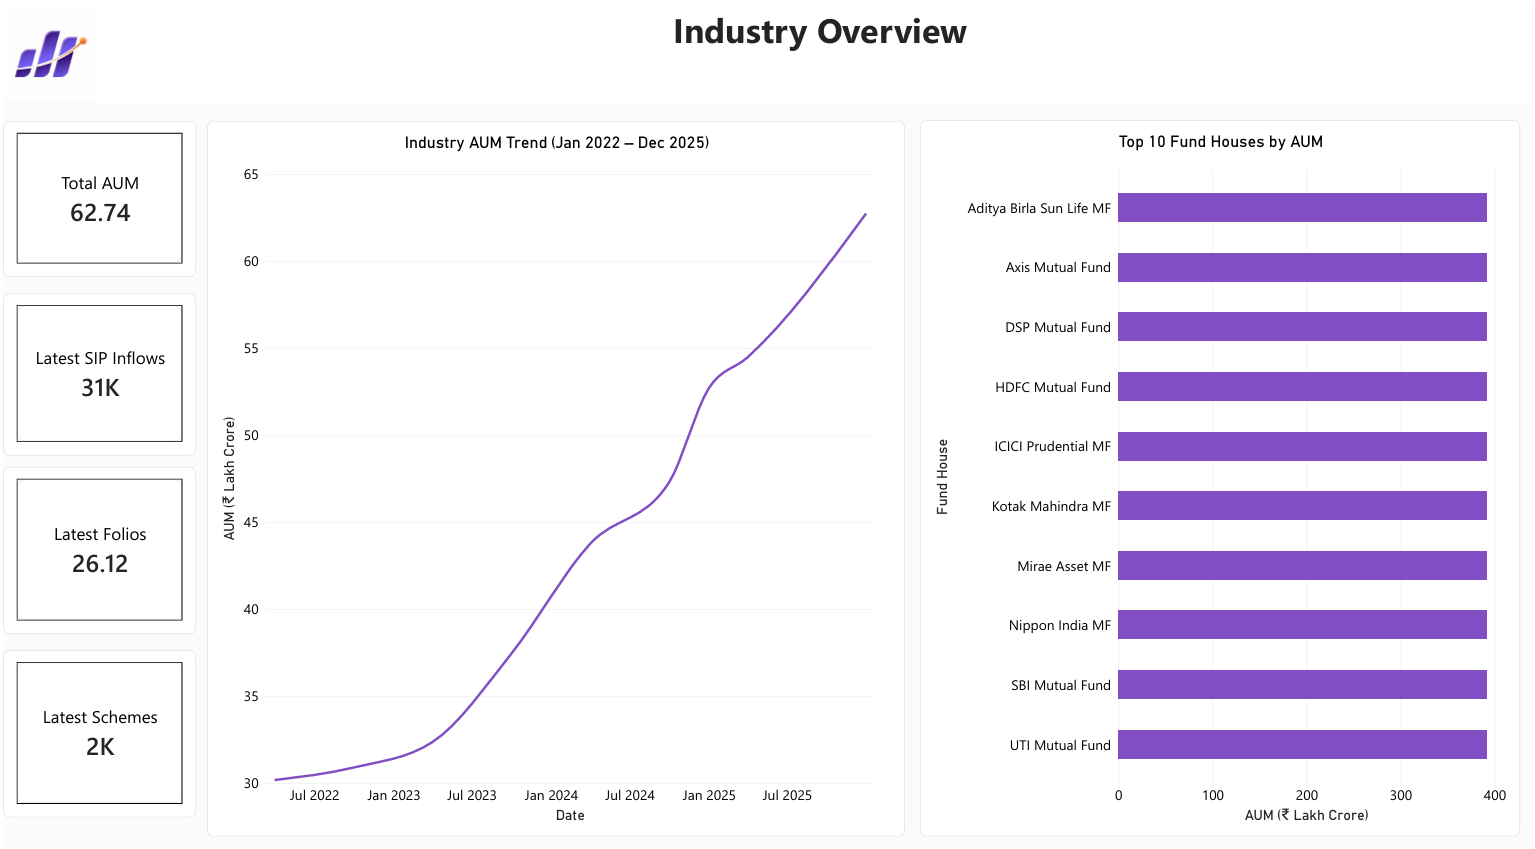

The dashboard page shown, as its layout file describes it:
{"tool":"powerbi","page":{"name":" Industry Overview","canvas":[1920,1080],"ordinal":0},"visuals":[{"type":"cardVisual","fields":{"Data":["clean_aum_by_fund_house.Total AUM"]},"box":[0,144,242,196],"z":0},{"type":"cardVisual","fields":{"Data":["clean_monthly_sip.Latest SIP Inflows"]},"box":[0,360,242,204],"z":1000},{"type":"cardVisual","fields":{"Data":["clean_industry_folio_count.Latest Folios"]},"box":[0,578,242,210],"z":2000},{"type":"cardVisual","fields":{"Data":["clean_aum_by_fund_house.Latest Schemes"]},"box":[0,808,242,210],"z":3000},{"type":"lineChart","title":"Industry AUM Trend (Jan 2022 – Dec 2025)","fields":{"Category":["clean_aum_by_fund_house.date"],"Y":["Sum(clean_aum_by_fund_house.aum_lakh_crore)"]},"box":[256,144,876,898],"z":4000},{"type":"clusteredBarChart","title":"Top 10 Fund Houses by AUM","fields":{"Category":["clean_fund_master.fund_house"],"Y":["Sum(clean_aum_by_fund_house.aum_lakh_crore)"]},"box":[1151,143.4,753.2,898.6],"z":5000},{"type":"actionButton","box":[0,0,100,40],"z":6000},{"type":"image","box":[0,0,119.1,121.2],"z":7000},{"type":"textbox","box":[119.1,0,1801.3,121.2],"z":8000}]}

Visuals, with their boxes in screenshot pixels (x1, y1, x2, y2), scaled from the page's 1920x1080 canvas onto the 1535x849 screenshot:
cardVisual - clean_aum_by_fund_house.Total AUM: pyautogui.locateOnScreen(0, 113, 193, 267)
cardVisual - clean_monthly_sip.Latest SIP Inflows: pyautogui.locateOnScreen(0, 283, 193, 443)
cardVisual - clean_industry_folio_count.Latest Folios: pyautogui.locateOnScreen(0, 454, 193, 619)
cardVisual - clean_aum_by_fund_house.Latest Schemes: pyautogui.locateOnScreen(0, 635, 193, 800)
"Industry AUM Trend (Jan 2022 – Dec 2025)" lineChart: pyautogui.locateOnScreen(205, 113, 905, 819)
"Top 10 Fund Houses by AUM" clusteredBarChart: pyautogui.locateOnScreen(920, 113, 1522, 819)
actionButton: pyautogui.locateOnScreen(0, 0, 80, 31)
image: pyautogui.locateOnScreen(0, 0, 95, 95)
textbox: pyautogui.locateOnScreen(95, 0, 1534, 95)
